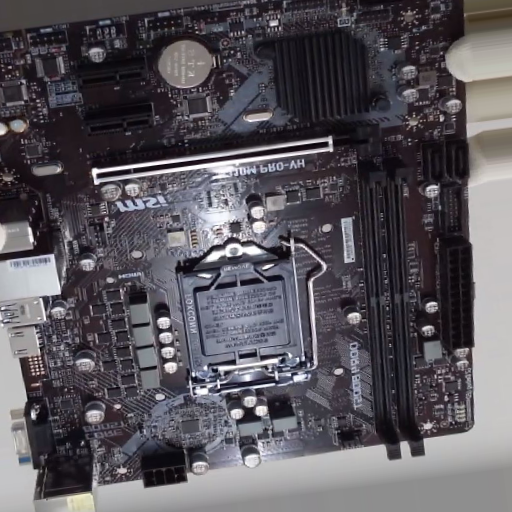CPU: (177, 242, 308, 394)
GPU: (90, 123, 381, 188)
MOTHERBOARD: (1, 1, 473, 494)
RAM: (357, 158, 427, 462)
